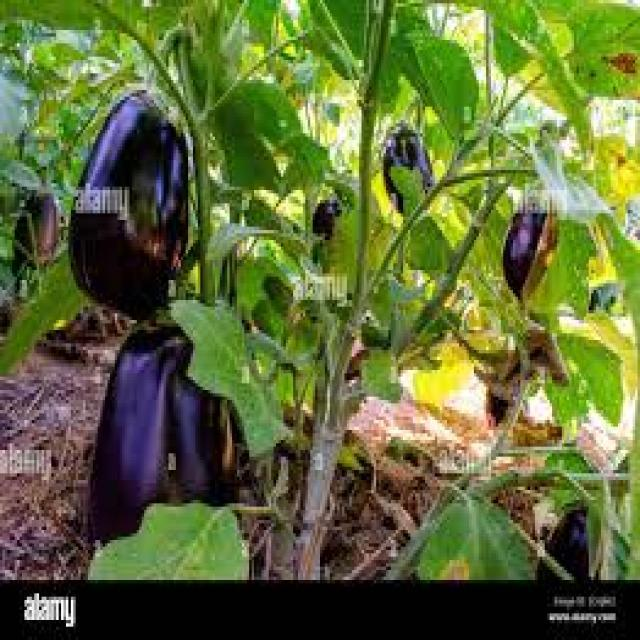Eggplant: (64, 63, 194, 315), (81, 304, 206, 552), (168, 332, 239, 507), (502, 154, 568, 305), (532, 498, 608, 582), (13, 170, 64, 295), (381, 111, 439, 216)
